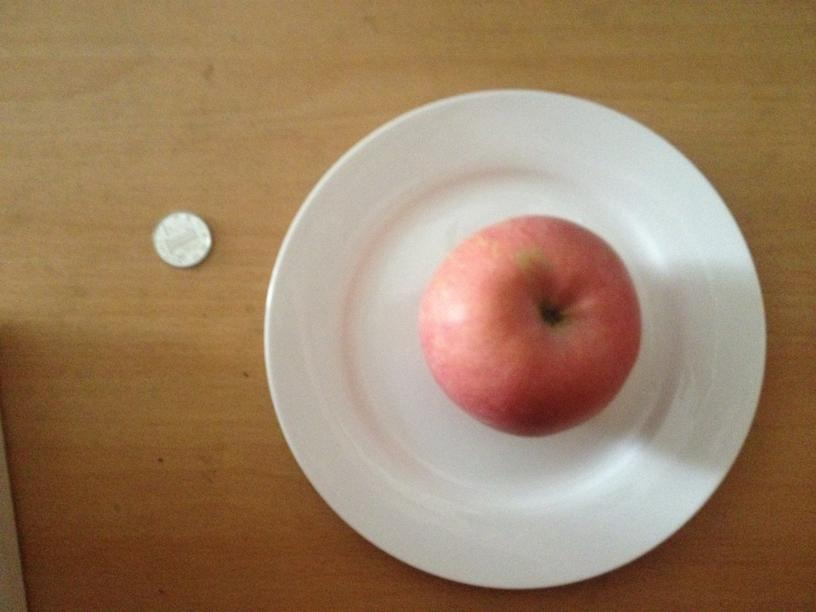apple: (415, 211, 643, 436)
coin: (153, 211, 211, 267)
